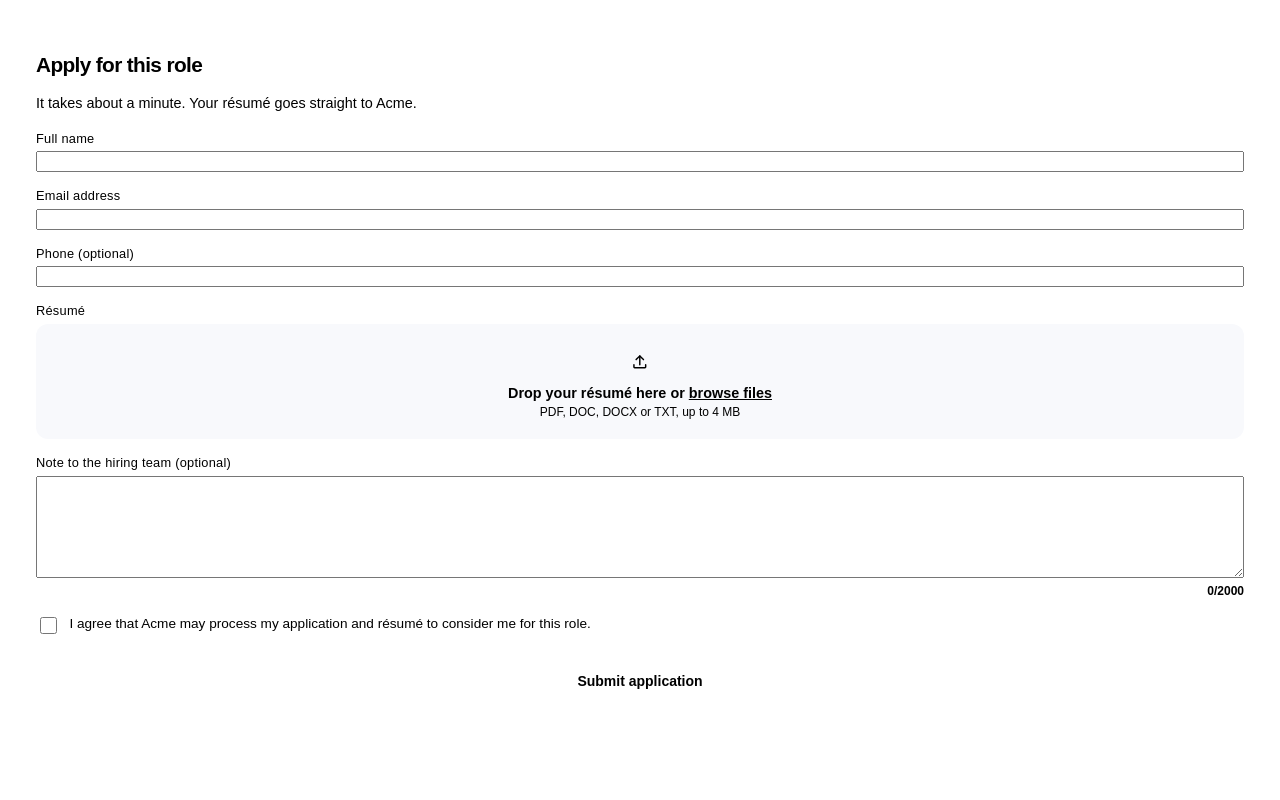
ApplyForm: client validation › shows a field message on leaving a field that is wrong
Type "nope" into the field labelled "Email address" at (640, 219), box [36,209,1244,230]
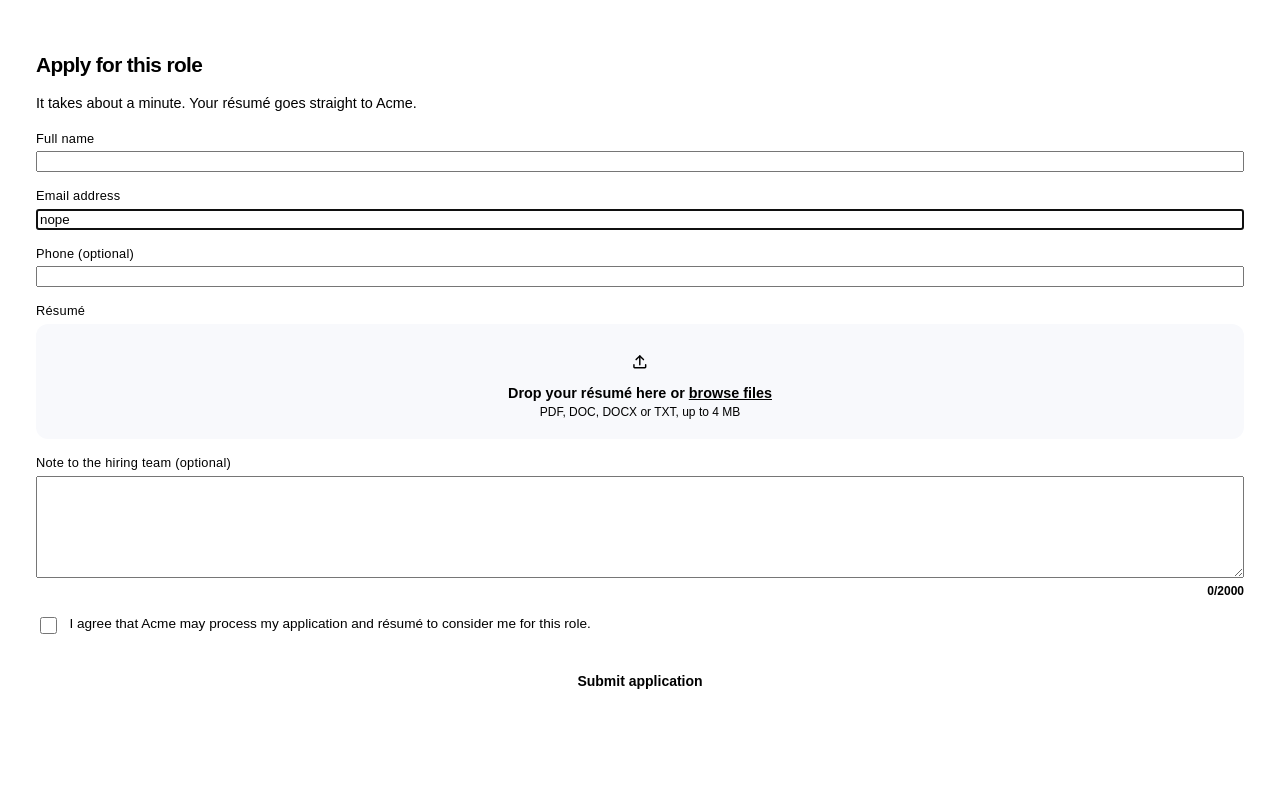
Press Tab
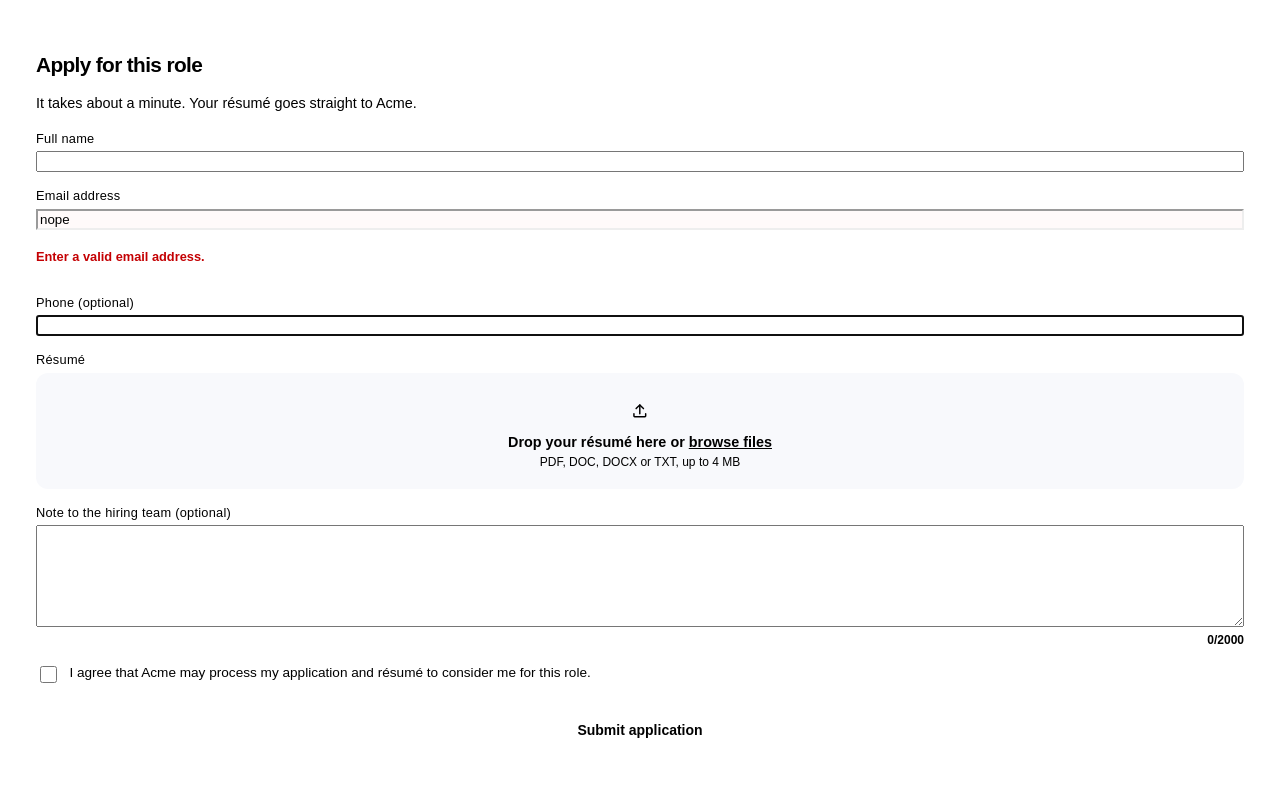
Expected: the text "Enter a valid email address." is shown, [36,249,205,264]
